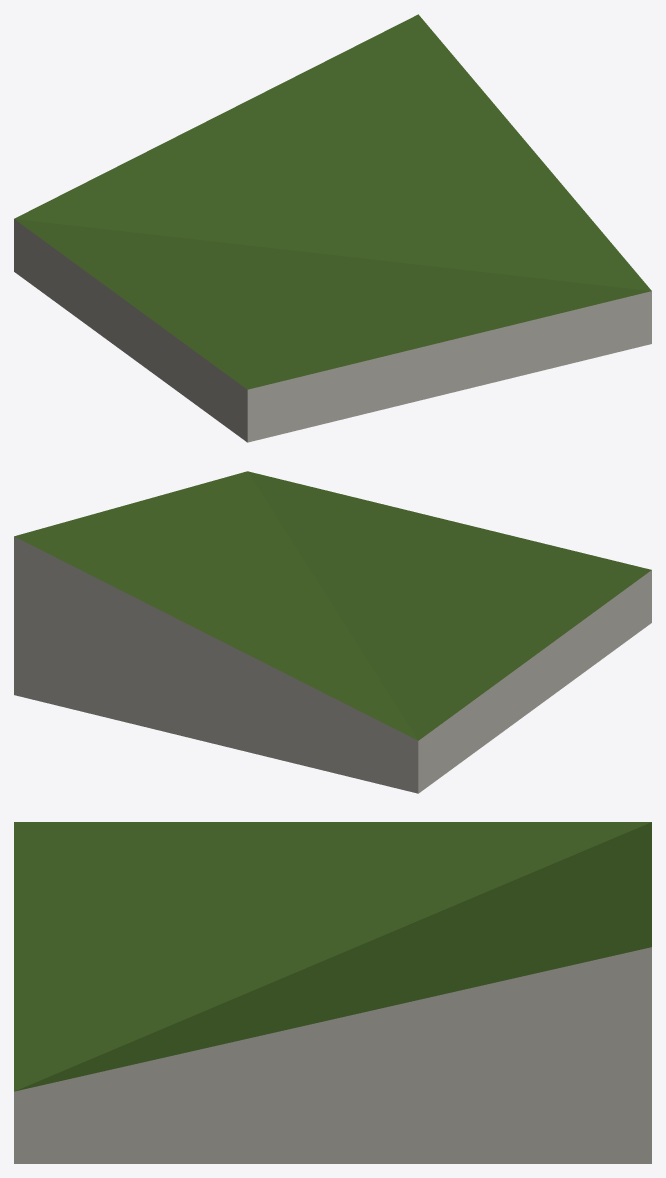
Rendered from Terrain_Tile_Grass_Rock_Corner_Ramp_High_02.fbx.
The picture shows the model from 3 angles, top to bottom: view 1: azimuth 30°, elevation 25°; view 2: azimuth 150°, elevation 25°; view 3: azimuth 270°, elevation 25°; orthographic projection. The views are drawn at different scales.
Parts seen in each view (by area): view 1: Terrain_Tile_Grass_Rock_Corner_Ramp_High_02; view 2: Terrain_Tile_Grass_Rock_Corner_Ramp_High_02; view 3: Terrain_Tile_Grass_Rock_Corner_Ramp_High_02.
Part boxes in pixels (x1,y1,x2,y2): Terrain_Tile_Grass_Rock_Corner_Ramp_High_02: (14,14,651,442); Terrain_Tile_Grass_Rock_Corner_Ramp_High_02: (14,471,651,793); Terrain_Tile_Grass_Rock_Corner_Ramp_High_02: (14,822,651,1163).
Bounding box in the file's own units: 126 × 47.24 × 126.
